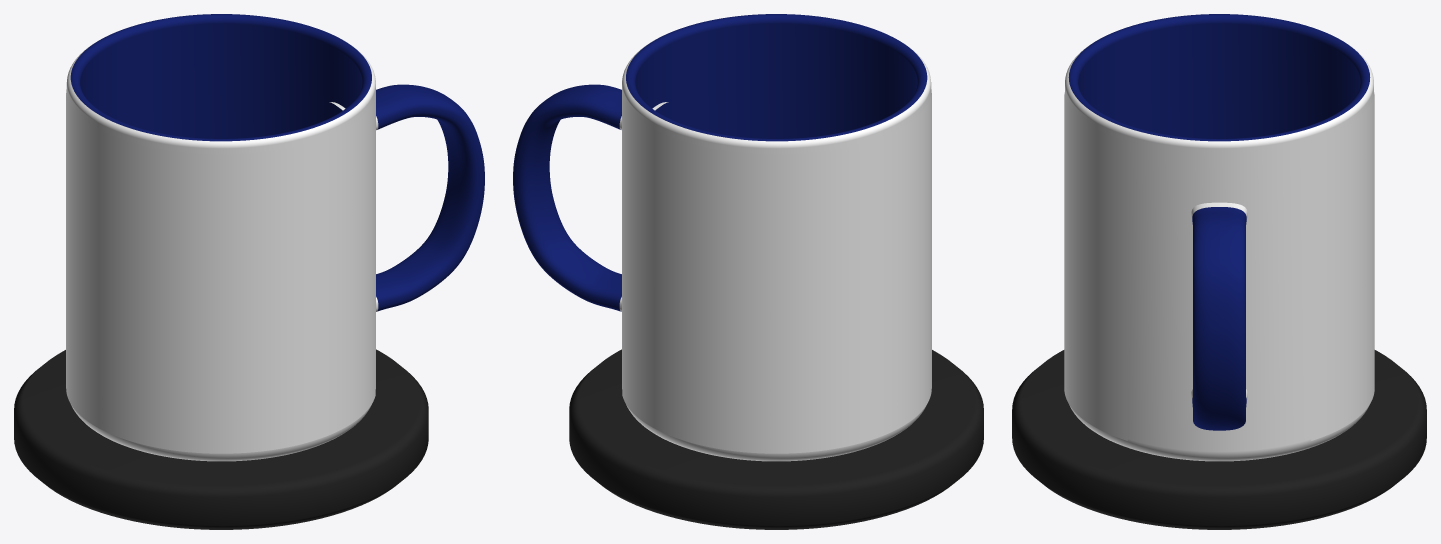
Rendered from caneca_tradicional_com_base.glb.
3 views of the same model, side by side, from view 1: azimuth 30°, elevation 25°; view 2: azimuth 150°, elevation 25°; view 3: azimuth 270°, elevation 25° (orthographic).
Parts seen in each view (by area): view 1: Area_Arte, Base_Apoio, Interior_Caneca, Alca_Tradicional, Corpo_Externo; view 2: Area_Arte, Base_Apoio, Interior_Caneca, Alca_Tradicional, Corpo_Externo; view 3: Corpo_Externo, Area_Arte, Base_Apoio, Interior_Caneca, Alca_Tradicional.
Part boxes in pixels (x1=…): Area_Arte: x1=66, y1=89, x2=375, y2=453; Base_Apoio: x1=14, y1=349, x2=428, y2=529; Interior_Caneca: x1=70, y1=14, x2=371, y2=141; Alca_Tradicional: x1=329, y1=84, x2=484, y2=311; Corpo_Externo: x1=66, y1=34, x2=375, y2=461; Area_Arte: x1=622, y1=89, x2=931, y2=453; Base_Apoio: x1=569, y1=349, x2=983, y2=529; Interior_Caneca: x1=626, y1=14, x2=927, y2=141; Alca_Tradicional: x1=513, y1=84, x2=668, y2=311; Corpo_Externo: x1=622, y1=34, x2=931, y2=461; Corpo_Externo: x1=1065, y1=39, x2=1373, y2=461; Area_Arte: x1=1064, y1=92, x2=1374, y2=440; Base_Apoio: x1=1012, y1=350, x2=1426, y2=529; Interior_Caneca: x1=1068, y1=14, x2=1370, y2=141; Alca_Tradicional: x1=1191, y1=202, x2=1247, y2=430.
Size of the model in its own units: 0.1333 by 0.108 by 0.11.
Materials: 4 (1 with a texture image).
